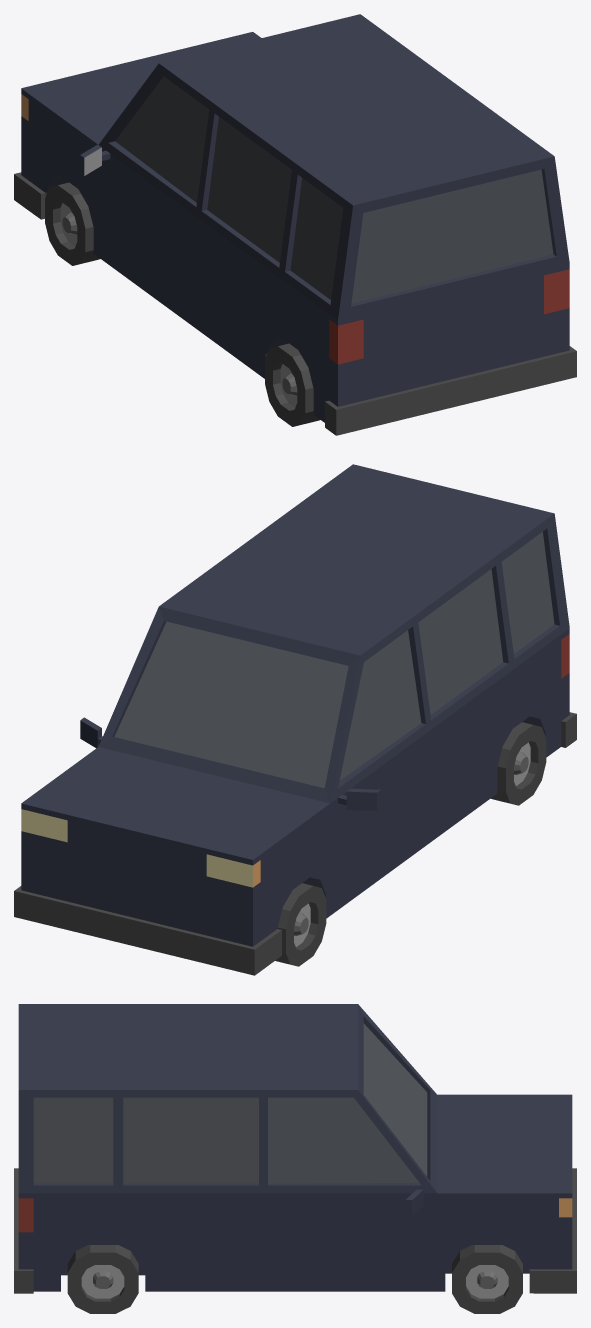
File: car03.fbx
3 renders of one model, top to bottom at view 1: azimuth 30°, elevation 25°; view 2: azimuth 150°, elevation 25°; view 3: azimuth 270°, elevation 25°, orthographic. The views are drawn at different scales.
Parts seen in each view (by area): view 1: car007, tire04, tire02; view 2: car007, tire04, tire02; view 3: car007, tire03, tire01.
Boxes of the visible parts, box(x1,y1,x2,y2) form: car007: box(14, 14, 576, 435); tire04: box(265, 343, 320, 426); tire02: box(45, 182, 100, 265); car007: box(14, 464, 576, 975); tire04: box(491, 722, 546, 805); tire02: box(275, 883, 326, 966); car007: box(14, 1004, 576, 1293); tire03: box(67, 1245, 138, 1313); tire01: box(452, 1245, 522, 1313).
Bounding box in the file's own units: 281 × 529 × 224.
